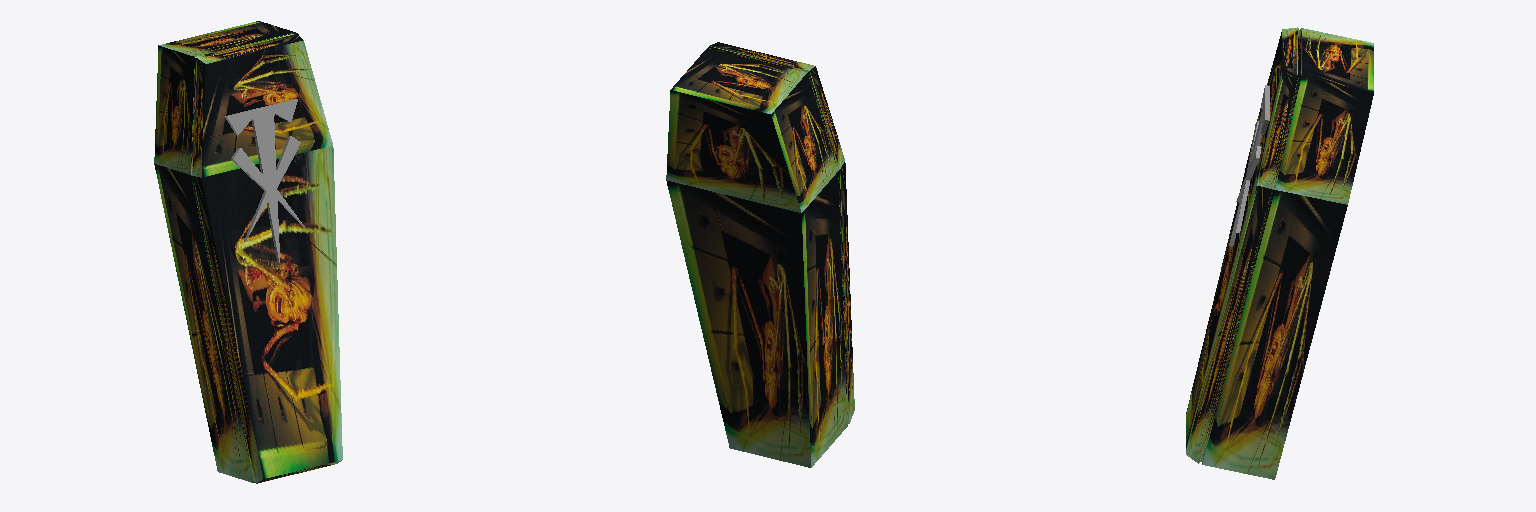
3 views of the same model, side by side, from view 1: azimuth 30°, elevation 25°; view 2: azimuth 150°, elevation 25°; view 3: azimuth 270°, elevation 25° (orthographic).
Parts seen in each view (by area): view 1: coffin_Cube.002_Material.003, symbol_Cube.001; view 2: coffin_Cube.002_Material.003; view 3: coffin_Cube.002_Material.003, symbol_Cube.001.
Part boxes in pixels (bbox=[...]): coffin_Cube.002_Material.003: bbox=[154, 21, 342, 483]; symbol_Cube.001: bbox=[225, 99, 304, 265]; coffin_Cube.002_Material.003: bbox=[666, 42, 854, 467]; coffin_Cube.002_Material.003: bbox=[1186, 27, 1373, 479]; symbol_Cube.001: bbox=[1229, 85, 1269, 246].
Size of the model in its own units: 2.69 by 7.75 by 3.25.
Materials: 2 (1 with a texture image).